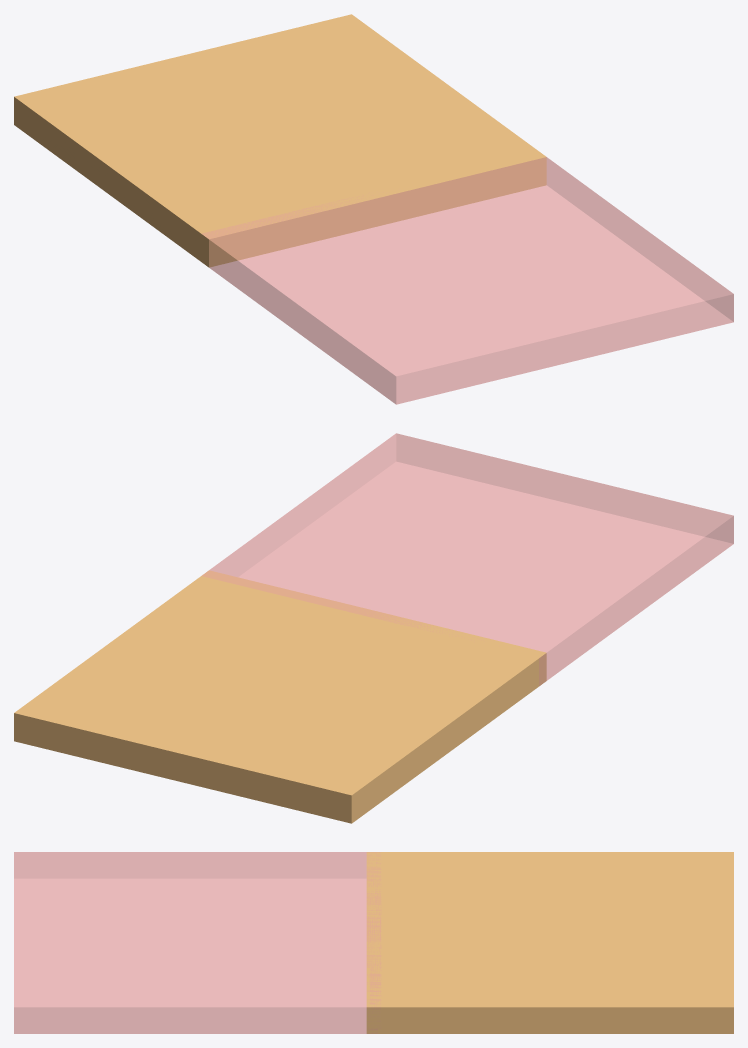
Rendered from macchina_step3.glb.
3 views of the same model, one above another, from view 1: azimuth 30°, elevation 25°; view 2: azimuth 150°, elevation 25°; view 3: azimuth 270°, elevation 25° (orthographic). The views are drawn at different scales.
Parts seen in each view (by area): view 1: quadrato_piccolo, quadrato_grande; view 2: quadrato_piccolo, quadrato_grande; view 3: quadrato_piccolo, quadrato_grande.
Boxes of the visible parts, bbox=[...] form: quadrato_piccolo: bbox=[14, 14, 546, 267]; quadrato_grande: bbox=[202, 157, 733, 404]; quadrato_piccolo: bbox=[14, 570, 546, 823]; quadrato_grande: bbox=[202, 433, 733, 685]; quadrato_piccolo: bbox=[366, 852, 733, 1033]; quadrato_grande: bbox=[14, 852, 381, 1033].
Bounding box in the file's own units: 1 × 0.08 × 1.96.
